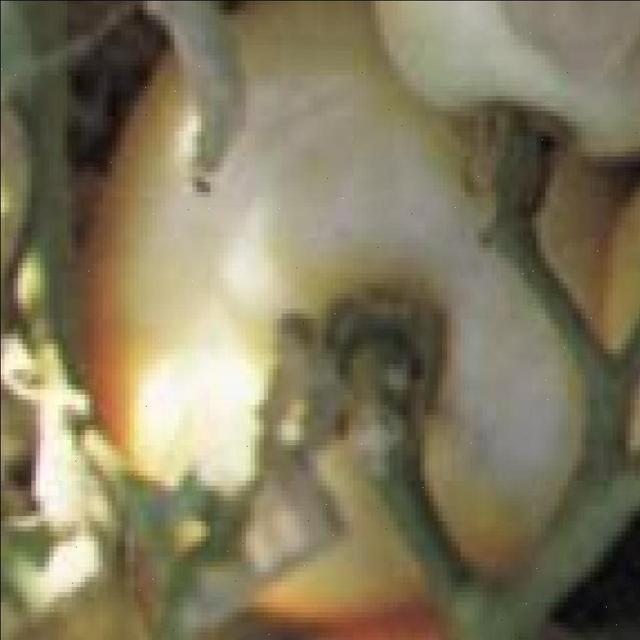Sunscald Fruit: (108, 40, 372, 273)
